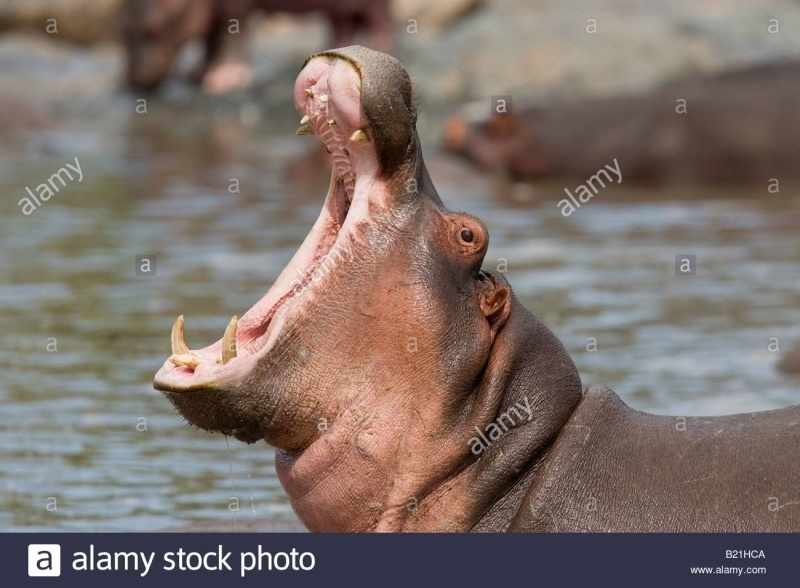hipopotamo: (152, 44, 799, 532)
